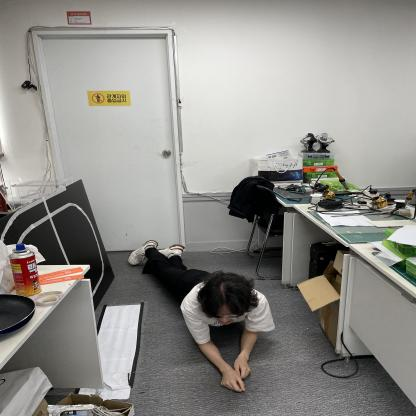fall: (128, 235, 273, 392)
